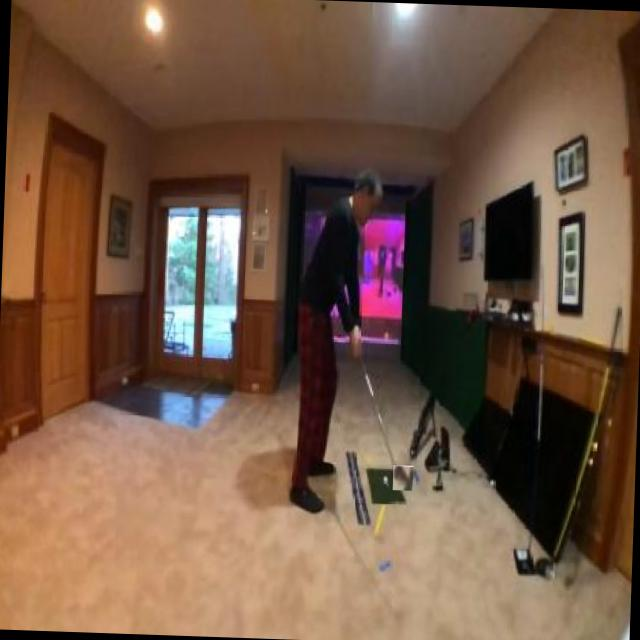club head: (392, 464, 413, 490)
